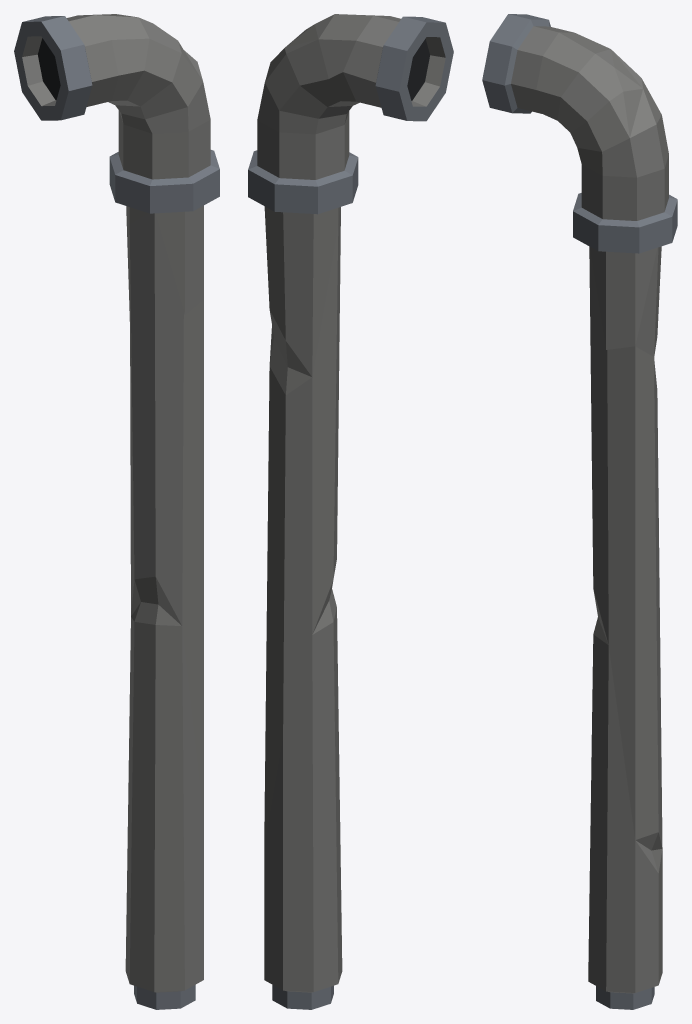
The model's file is SM_Wep_Pipe.glb.
The picture shows the model from 3 angles, left to right: view 1: azimuth 30°, elevation 25°; view 2: azimuth 150°, elevation 25°; view 3: azimuth 330°, elevation 25°; orthographic projection. The views are drawn at different scales.
Parts seen in each view (by area): view 1: SM_Wep_Pipe_01.002; view 2: SM_Wep_Pipe_01.002; view 3: SM_Wep_Pipe_01.002.
Part boxes in pixels (x1,y1,x2,y2): SM_Wep_Pipe_01.002: (14, 14, 219, 1009); SM_Wep_Pipe_01.002: (248, 14, 453, 1009); SM_Wep_Pipe_01.002: (482, 14, 677, 1009).
Bounding box in the file's own units: 0.2657 × 1.48 × 0.1522.
1 material, 1 textured.
